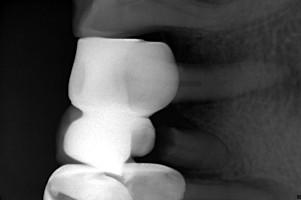Furcation Involvement: (246, 49, 301, 101), (234, 178, 297, 199)
